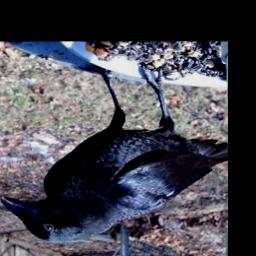Crow: (0, 63, 228, 244)
